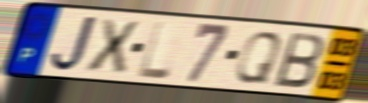7: (186, 20, 232, 85)
B: (272, 30, 327, 90)
J: (48, 13, 100, 73)
L: (136, 20, 173, 81)
Q: (232, 29, 285, 86)
X: (83, 17, 142, 75)
